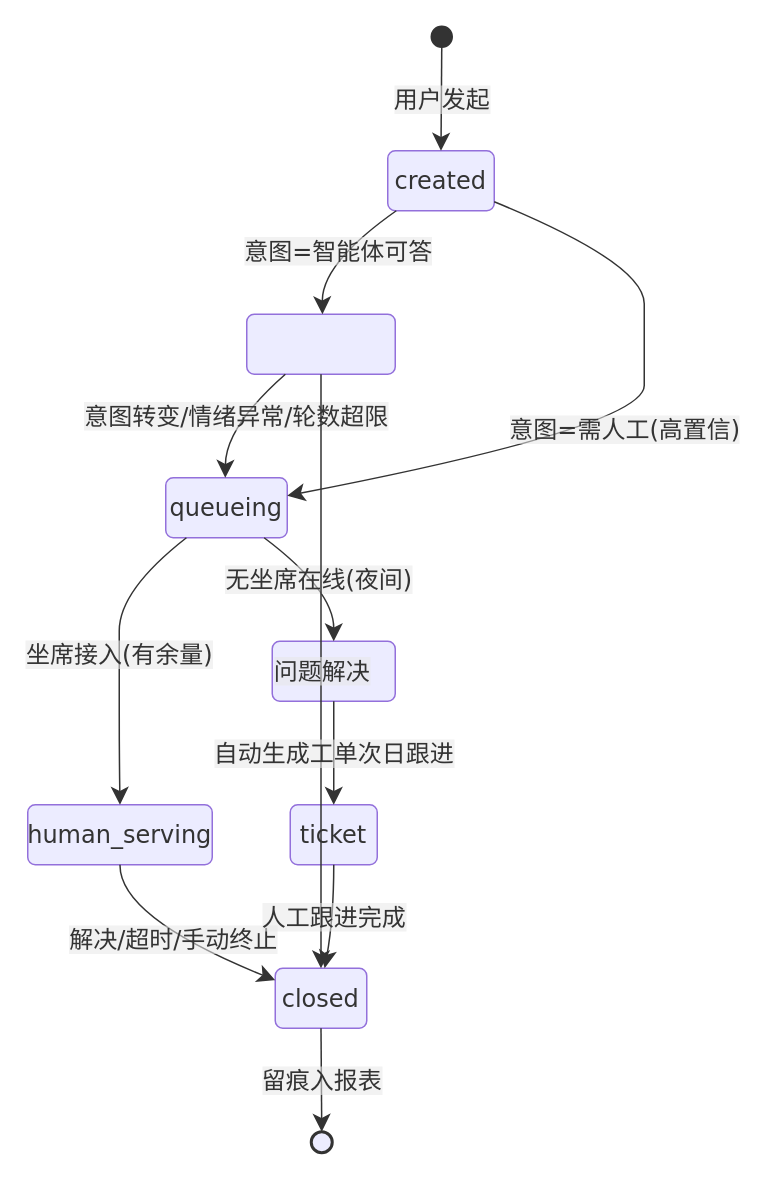
Image size: 767x1181. Some labels were removed from this diagram. Here are the shapes that lost their labels. From the top down, the box of each, then its label:
(245, 313, 395, 374): bot_serving
(271, 640, 395, 701): leavemsg
